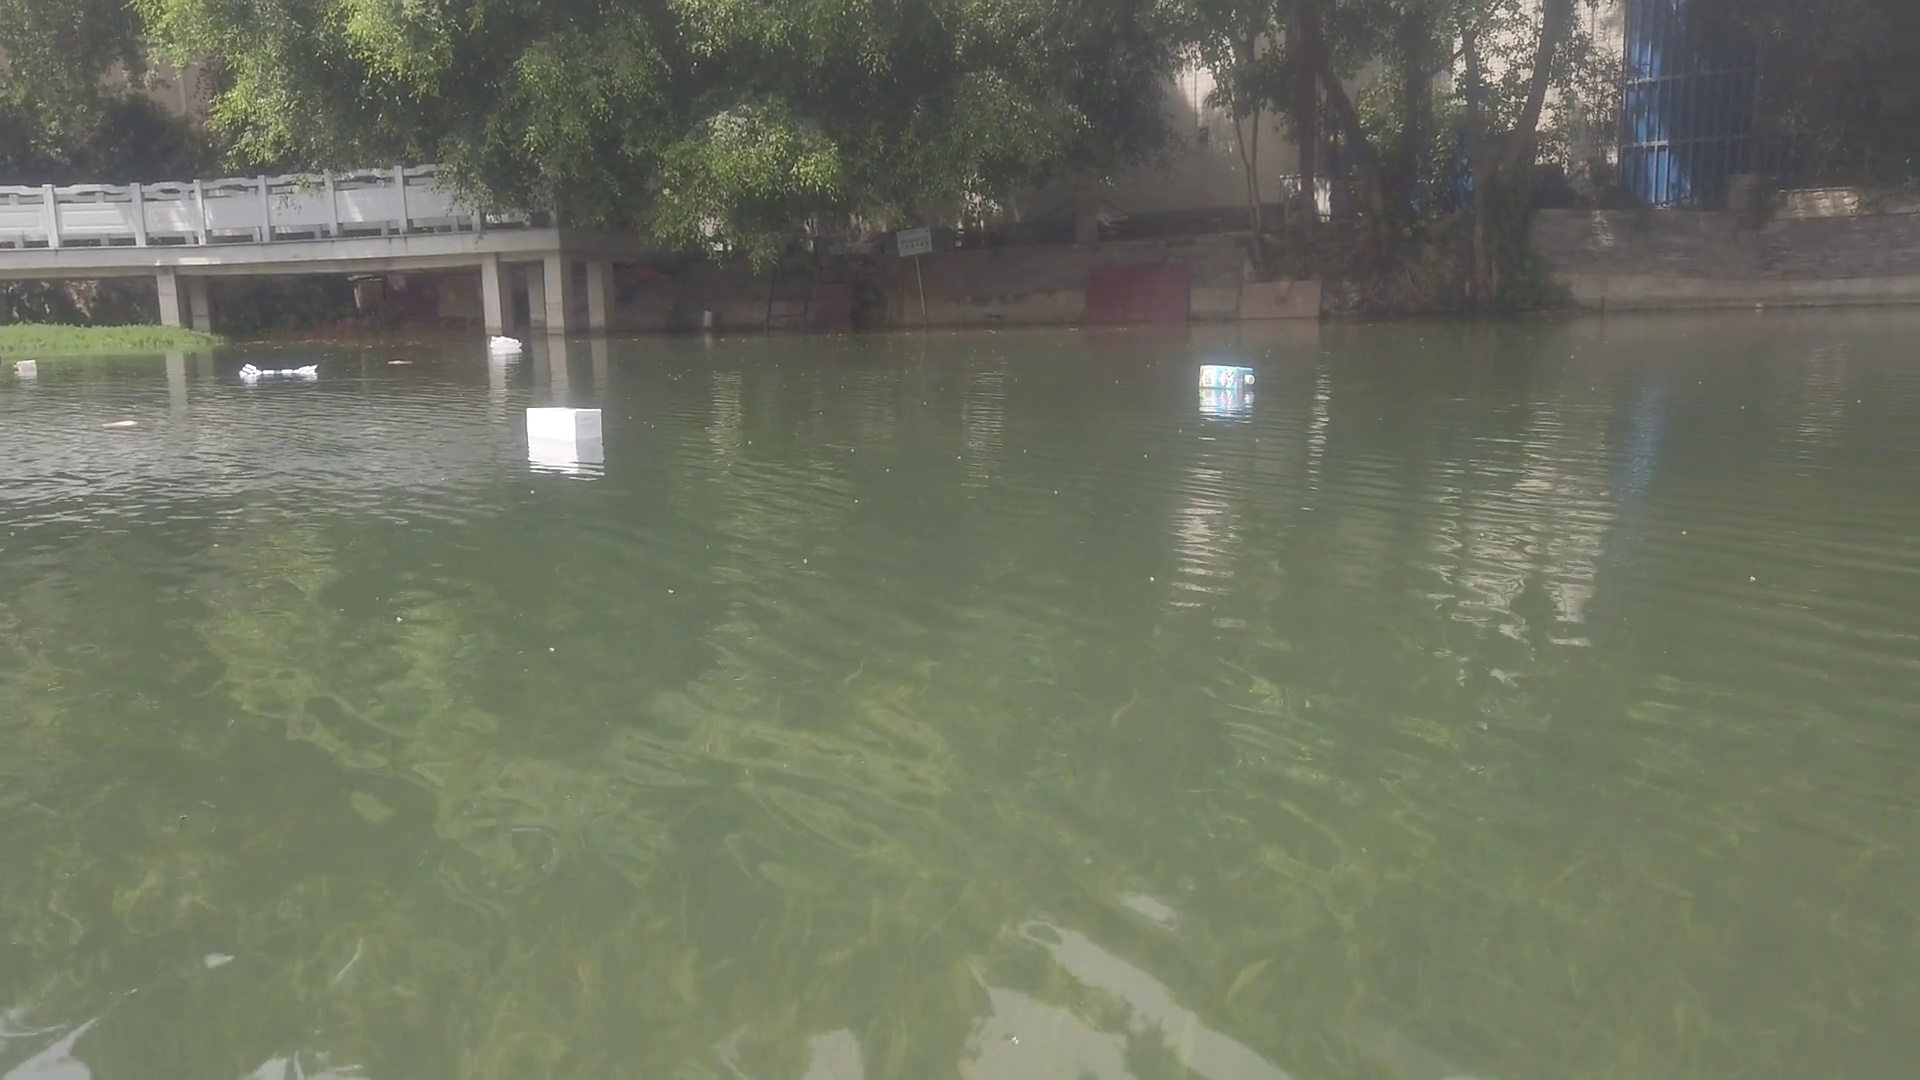carton: (524, 402, 603, 443), (1197, 363, 1259, 392), (13, 357, 37, 371)
paper: (237, 361, 322, 378), (96, 415, 140, 430), (386, 355, 410, 365)
plastic: (487, 334, 524, 351)
